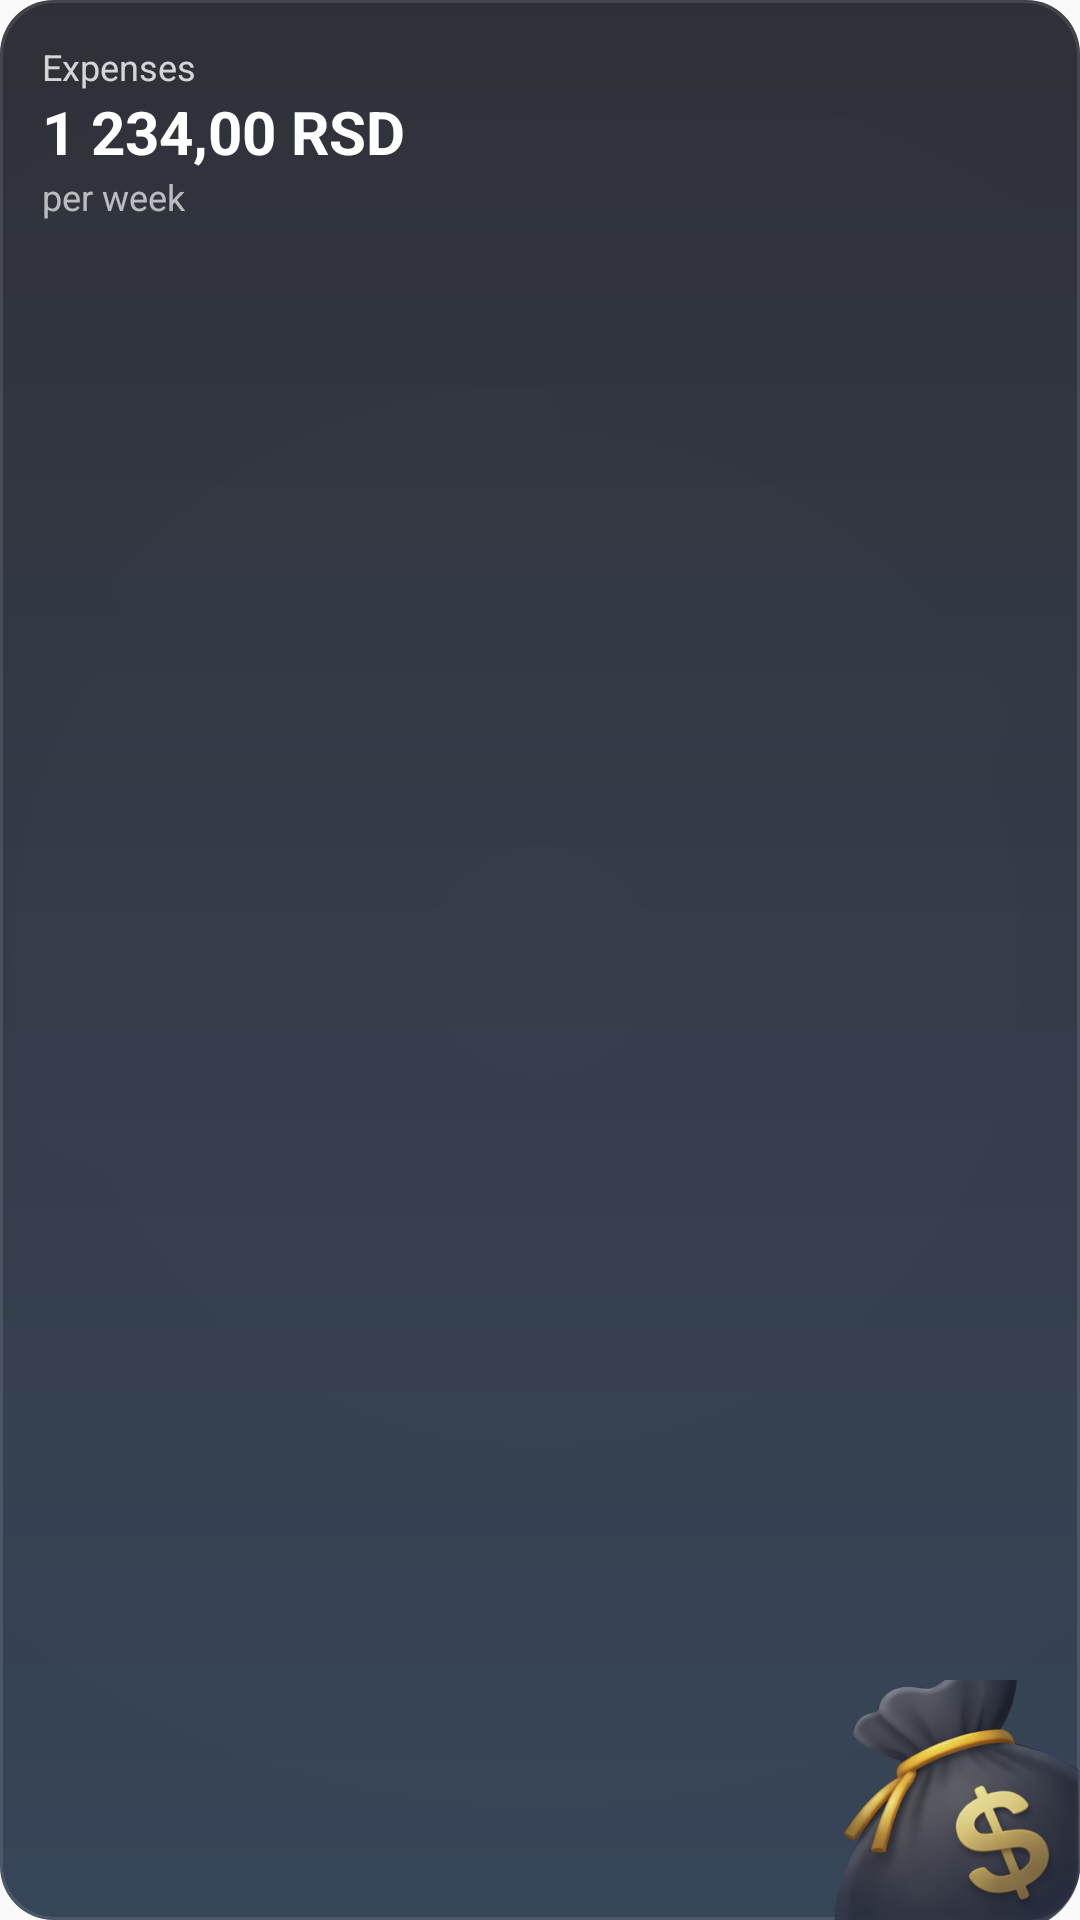

Locate icon controls on the screen. Image size 1080w x 1920h, boxes as (x1,y1,x2,y2).
widget bag: (834,1680,1080,1920)
